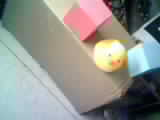duck: (83, 30, 133, 81)
